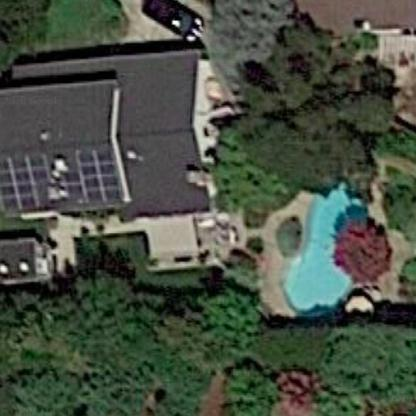car: (136, 1, 210, 46)
solar_panel: (62, 137, 132, 213), (3, 152, 63, 215)
swimming_pool: (280, 165, 387, 322)
